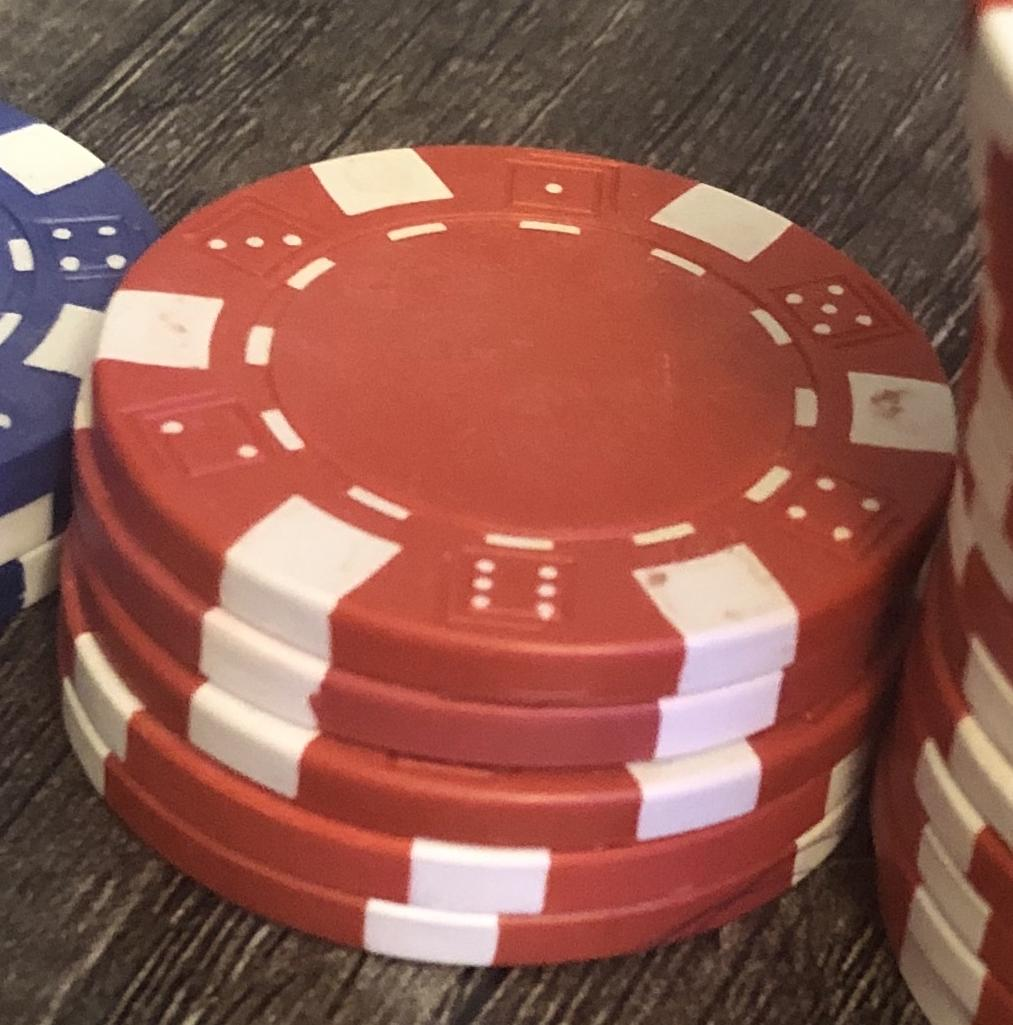Chip: (1, 1, 1013, 1025)
